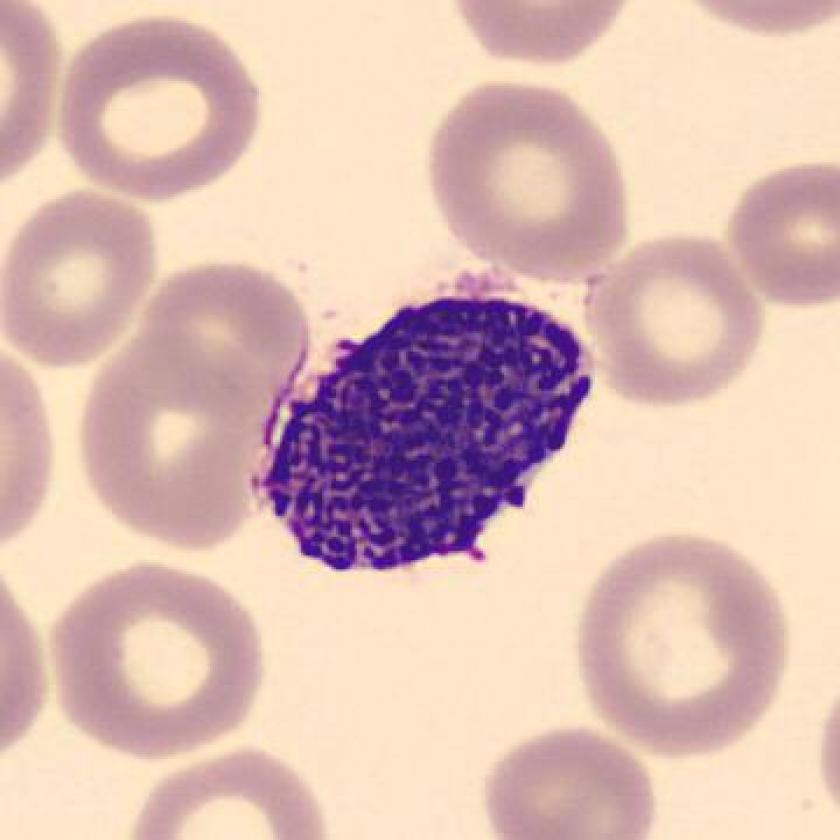basophil: (258, 281, 608, 591)
